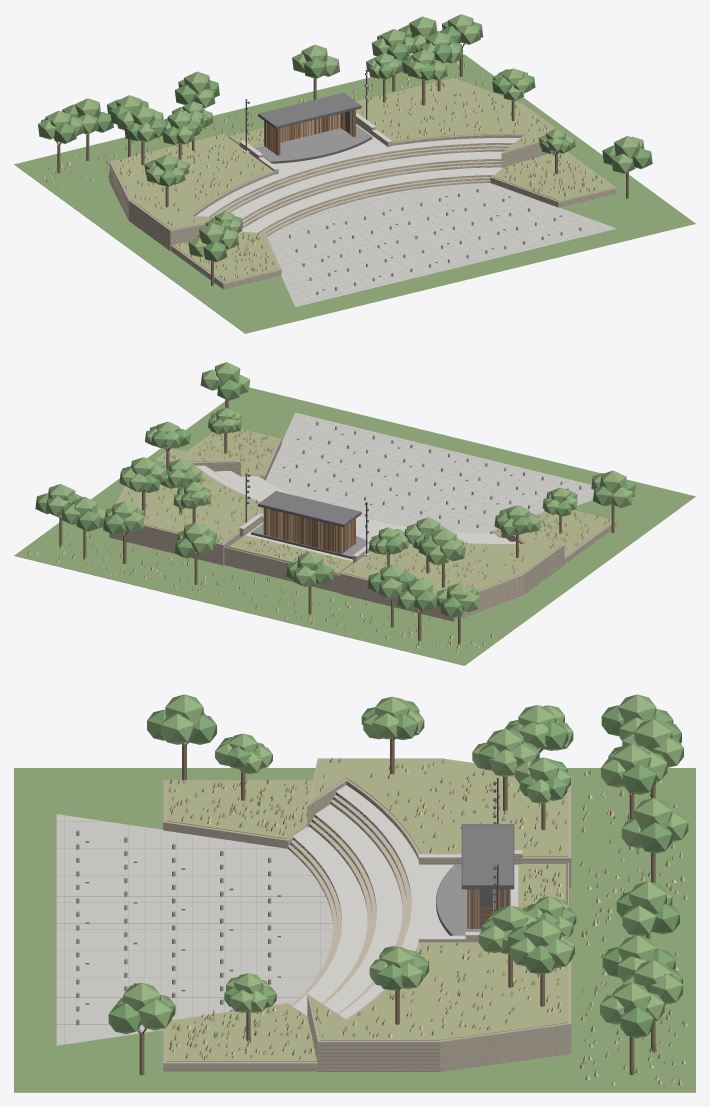
File: clay-market-square-clay-v002.glb
3 renders of one model, top to bottom at view 1: azimuth 30°, elevation 25°; view 2: azimuth 150°, elevation 25°; view 3: azimuth 270°, elevation 25°, orthographic. The views are drawn at different scales.
Visible parts, largest first — view 1: CLAY_LAWN, CLAY_PAVING, CLAY_MEADOW, CLAY_TREE2, CLAY_STONE, CLAY_CONCRETE, CLAY_TREE, CLAY_STONE2, CLAY_MEADOW2, CLAY_STONE3, CLAY_DECK, CLAY_MORTAR (+8 smaller); view 2: CLAY_LAWN, CLAY_PAVING, CLAY_MEADOW, CLAY_TREE2, CLAY_STONE, CLAY_TREE, CLAY_MEADOW2, CLAY_CONCRETE, CLAY_MORTAR, CLAY_BARK, CLAY_ROOF, CLAY_TIMBER3 (+5 smaller); view 3: CLAY_LAWN, CLAY_PAVING, CLAY_MEADOW, CLAY_TREE2, CLAY_STONE, CLAY_CONCRETE, CLAY_TREE, CLAY_MEADOW2, CLAY_STONE2, CLAY_MORTAR, CLAY_ROOF, CLAY_BARK (+6 smaller).
Boxes of the visible parts, x1,y1,x2,y2 form: CLAY_LAWN: (14,54,695,333); CLAY_PAVING: (267,183,616,307); CLAY_MEADOW: (45,72,613,282); CLAY_TREE2: (38,14,644,257); CLAY_STONE: (109,78,616,289); CLAY_CONCRETE: (196,113,519,232); CLAY_TREE: (41,22,652,262); CLAY_STONE2: (211,143,512,235); CLAY_MEADOW2: (42,60,598,278); CLAY_STONE3: (209,143,512,236); CLAY_DECK: (254,125,371,161); CLAY_MORTAR: (109,118,614,288); CLAY_LAWN: (14,387,695,665); CLAY_PAVING: (265,412,593,533); CLAY_MEADOW: (60,429,611,646); CLAY_TREE2: (46,362,633,612); CLAY_STONE: (109,429,616,621); CLAY_TREE: (35,379,635,617); CLAY_MEADOW2: (28,431,607,652); CLAY_CONCRETE: (196,465,519,561); CLAY_MORTAR: (110,442,616,620); CLAY_BARK: (58,399,614,644); CLAY_ROOF: (259,491,360,524); CLAY_TIMBER3: (263,508,355,552); CLAY_LAWN: (14,768,695,1092); CLAY_PAVING: (56,814,333,1045); CLAY_MEADOW: (166,757,685,1073); CLAY_TREE2: (115,694,688,1030); CLAY_STONE: (163,758,571,1071); CLAY_CONCRETE: (292,785,522,1019); CLAY_TREE: (108,700,682,1038); CLAY_MEADOW2: (170,758,687,1085); CLAY_STONE2: (288,795,411,1014); CLAY_MORTAR: (163,783,570,1071); CLAY_ROOF: (462,824,513,885); CLAY_BARK: (137,738,655,1075).
Size of the model in its own units: 72 by 12.15 by 64.
